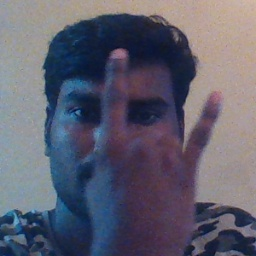V: (88, 46, 225, 252)
